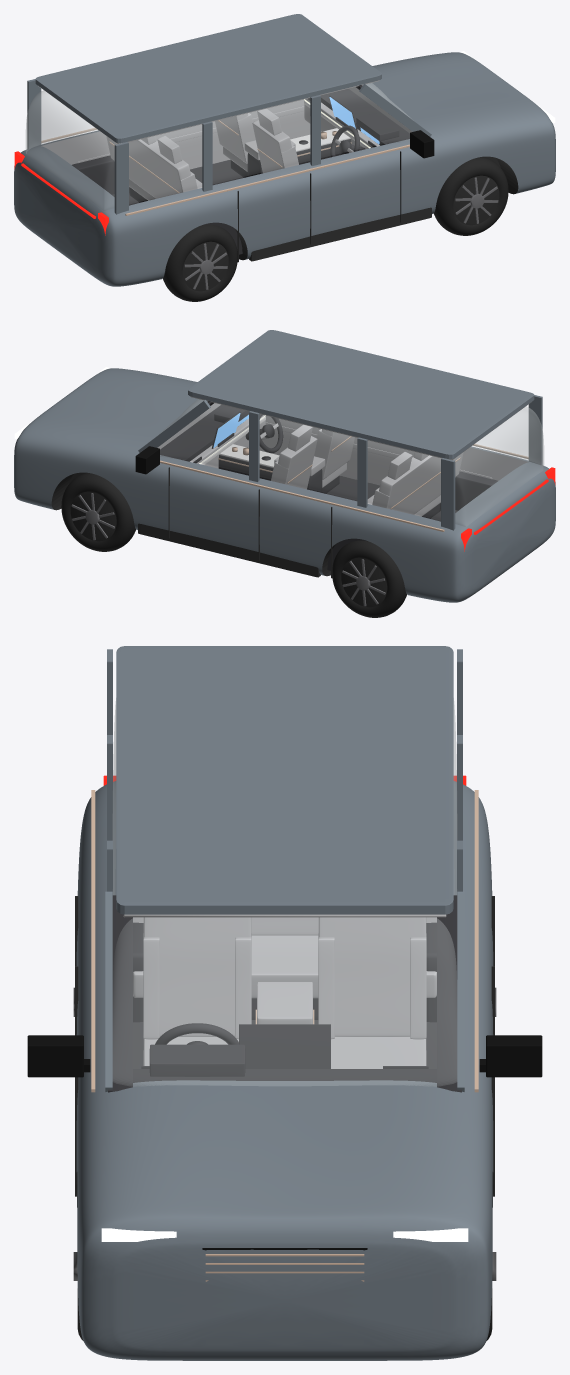
The model's file is luxury_suv.glb.
3 views of the same model, one above another, from view 1: azimuth 30°, elevation 25°; view 2: azimuth 150°, elevation 25°; view 3: azimuth 270°, elevation 25° (orthographic). The views are drawn at different scales.
Parts seen in each view (by area): view 1: Body, Greenhouse, Interior, Cube.010, Cube.030, INT_ClusterHood, Mirror.001, INT_CenterScreen; view 2: Body, Greenhouse, Interior, Cube, Cube.020, Mirror, INT_CenterScreen, INT_ClusterHood; view 3: Body, Greenhouse, Interior, INT_ClusterHood, Mirror, Mirror.001, INT_SteeringRim.
Boxes of the visible parts, x1,y1,x2,y2 form: Body: [14, 14, 555, 286]; Greenhouse: [26, 83, 411, 210]; Interior: [38, 80, 409, 272]; Cube.010: [434, 157, 508, 235]; Cube.030: [163, 224, 237, 301]; INT_ClusterHood: [356, 113, 399, 141]; Mirror.001: [410, 130, 434, 158]; INT_CenterScreen: [329, 97, 355, 128]; Body: [14, 330, 555, 602]; Greenhouse: [158, 399, 543, 526]; Interior: [160, 396, 531, 588]; Cube: [61, 473, 135, 551]; Cube.020: [332, 540, 406, 617]; Mirror: [135, 446, 159, 474]; INT_CenterScreen: [213, 413, 240, 447]; INT_ClusterHood: [214, 406, 249, 422]; Body: [75, 646, 494, 1360]; Greenhouse: [112, 704, 457, 1086]; Interior: [108, 895, 461, 1092]; INT_ClusterHood: [149, 1044, 245, 1076]; Mirror: [486, 1035, 542, 1077]; Mirror.001: [27, 1035, 83, 1077]; INT_SteeringRim: [155, 1023, 238, 1044].
Size of the model in its own units: 5.06 by 1.88 by 2.47.
